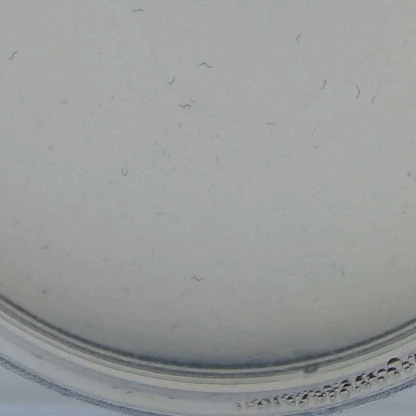worm: (257, 113, 294, 132), (162, 69, 180, 96), (370, 83, 387, 111), (292, 23, 309, 50), (194, 58, 216, 78), (124, 4, 151, 19), (108, 167, 135, 182), (1, 47, 23, 64), (172, 99, 194, 115), (353, 76, 363, 109), (186, 273, 208, 288), (154, 204, 171, 219), (313, 77, 333, 88)
